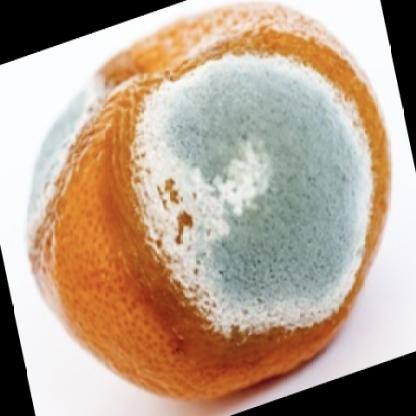rotten: (38, 4, 394, 400)
